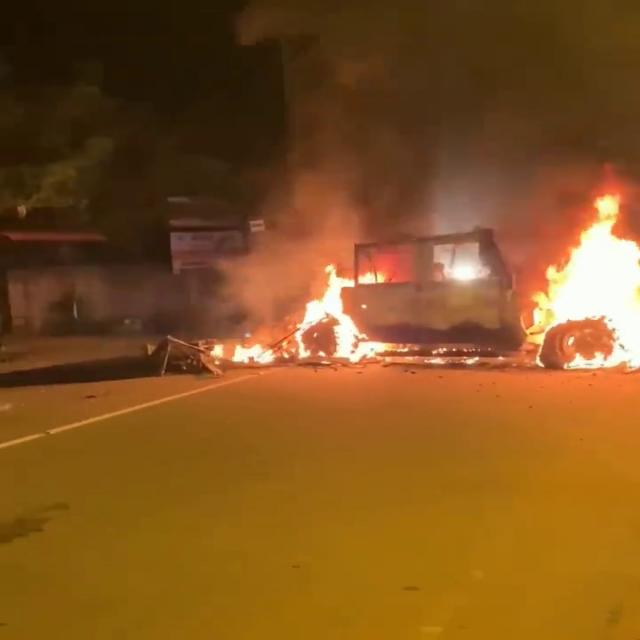Fire: (540, 197, 640, 354), (272, 265, 382, 360), (196, 339, 292, 373), (562, 341, 636, 374), (448, 242, 486, 284), (359, 269, 401, 288)
Smoke: (220, 178, 356, 314)
